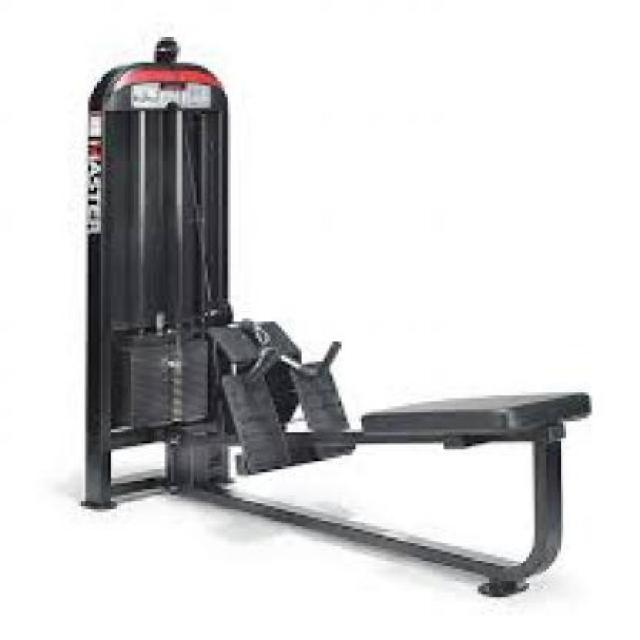Seated Cable Rows: (72, 31, 596, 611)
